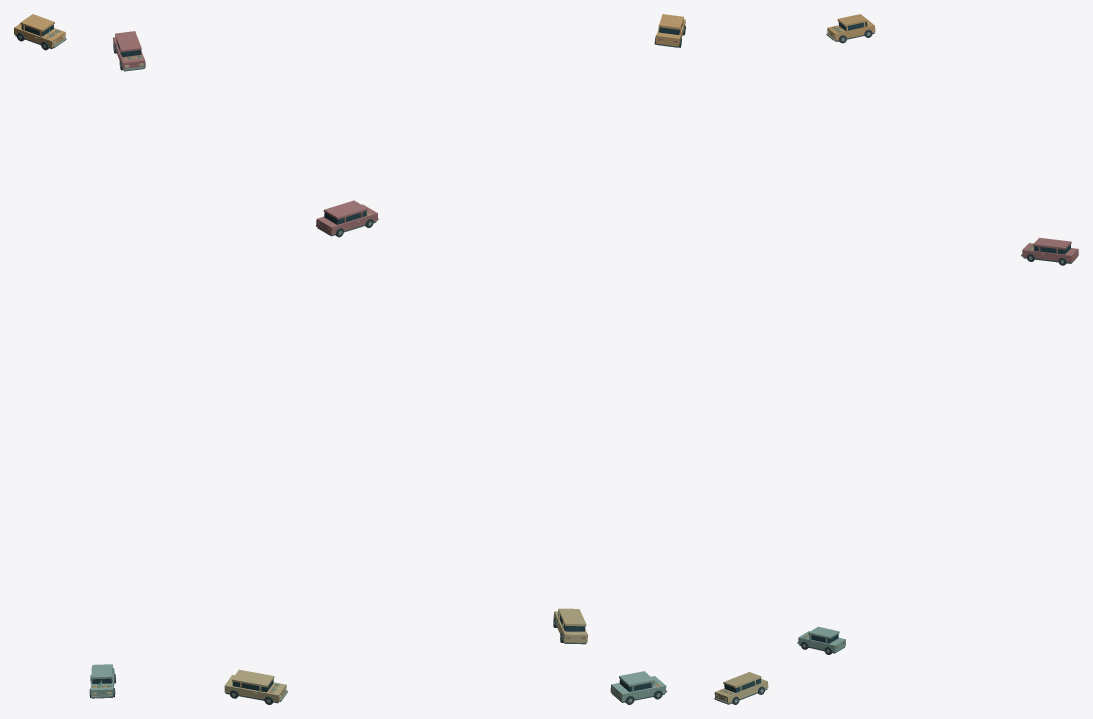
The model's file is vehicles.glb.
3 views of the same model, side by side, from view 1: azimuth 30°, elevation 25°; view 2: azimuth 150°, elevation 25°; view 3: azimuth 270°, elevation 25° (orthographic). The views are drawn at different scales.
Visible parts, largest first — view 1: vehicles; view 2: vehicles; view 3: vehicles.
Part boxes in pixels (box(x1,y1,x2,y2)): vehicles: box(14, 14, 287, 704); vehicles: box(316, 14, 685, 704); vehicles: box(714, 14, 1078, 704).
Bounding box in the file's own units: 21.54 × 58.99 × 31.91.
